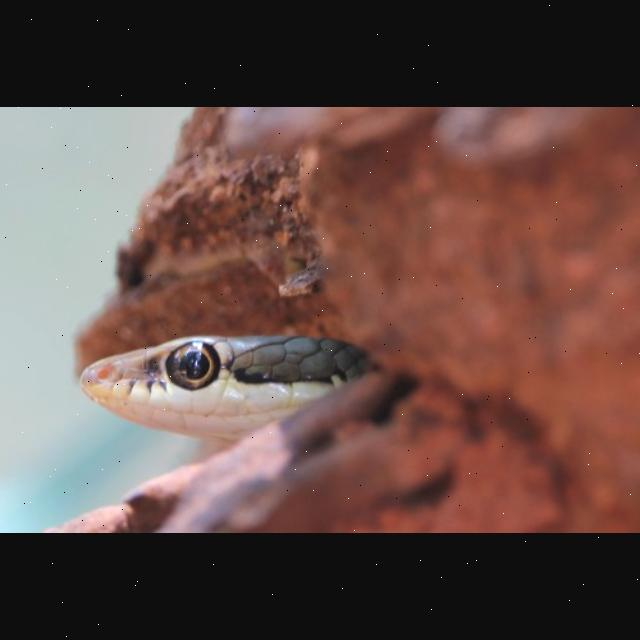snake: (49, 322, 375, 440)
